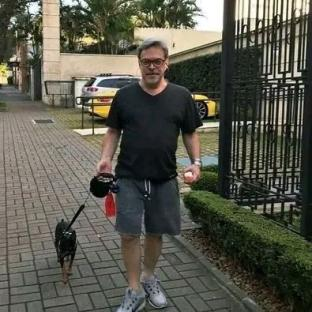Animal: (55, 205, 84, 283)
Human: (97, 38, 201, 311)
